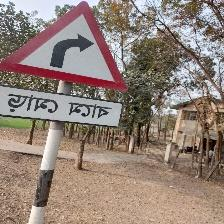Left-Turn: (0, 0, 136, 134)
